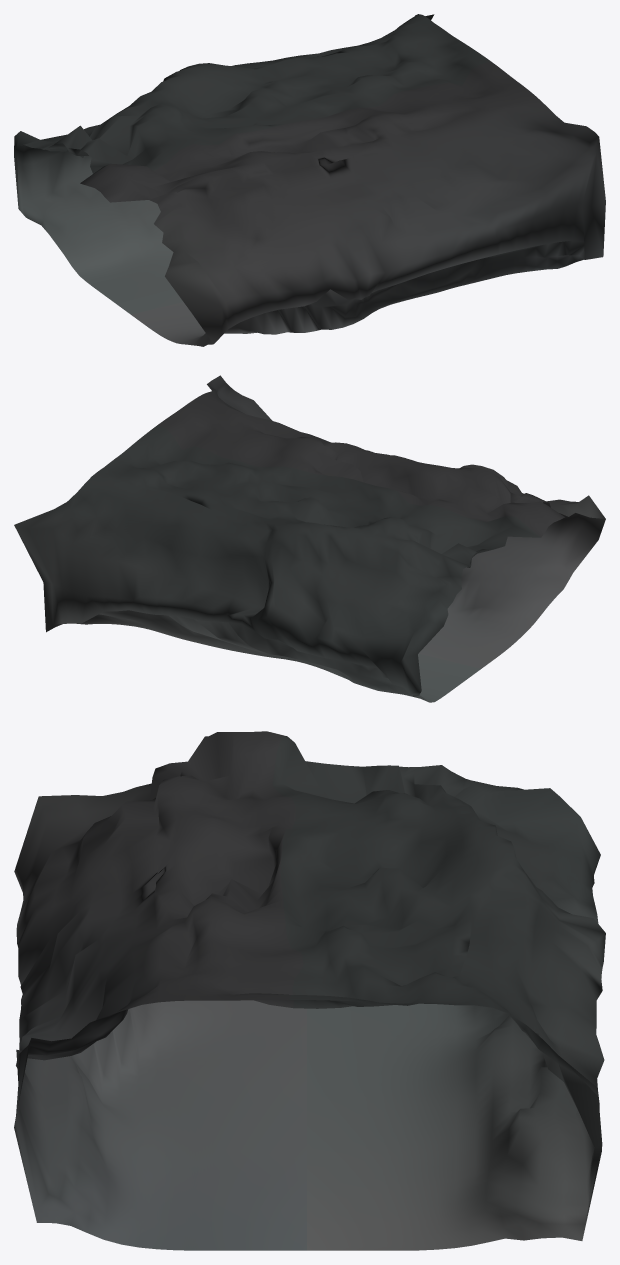
Rendered from Cave.fbx.
The picture shows the model from 3 angles, top to bottom: view 1: azimuth 30°, elevation 25°; view 2: azimuth 150°, elevation 25°; view 3: azimuth 270°, elevation 25°; orthographic projection. The views are drawn at different scales.
Parts seen in each view (by area): view 1: Cave; view 2: Cave; view 3: Cave.
Part boxes in pixels (<box>): Cave: <box>14,14,605,346</box>; Cave: <box>14,375,605,702</box>; Cave: <box>14,731,605,1250</box>.
Bounding box in the file's own units: 2608 × 927 × 1979.
